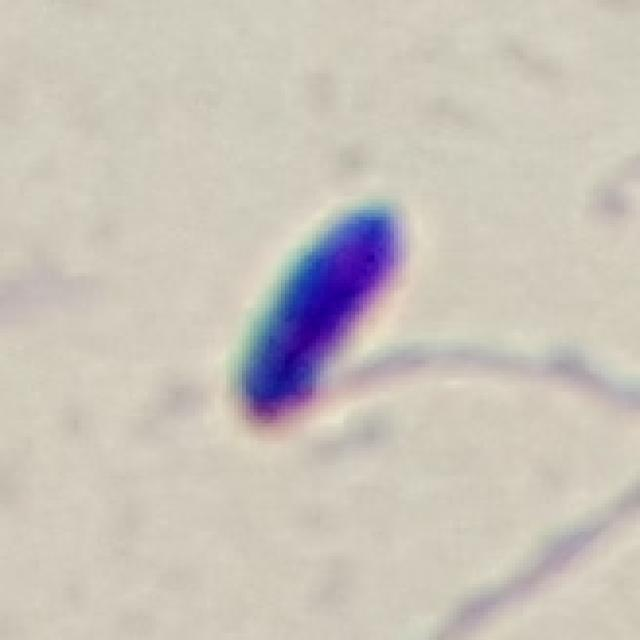abnormal sperm: (206, 194, 455, 449)
